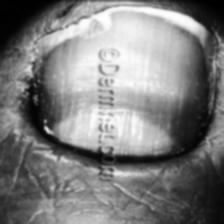Toxin: (8, 0, 95, 134)
